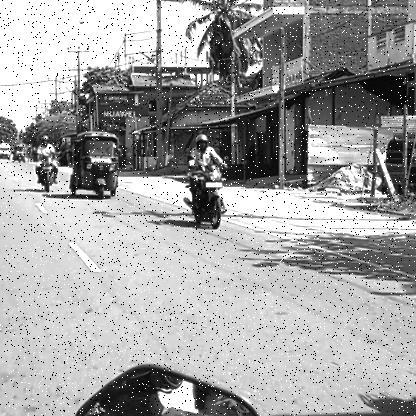motorcycle: (181, 164, 230, 234)
